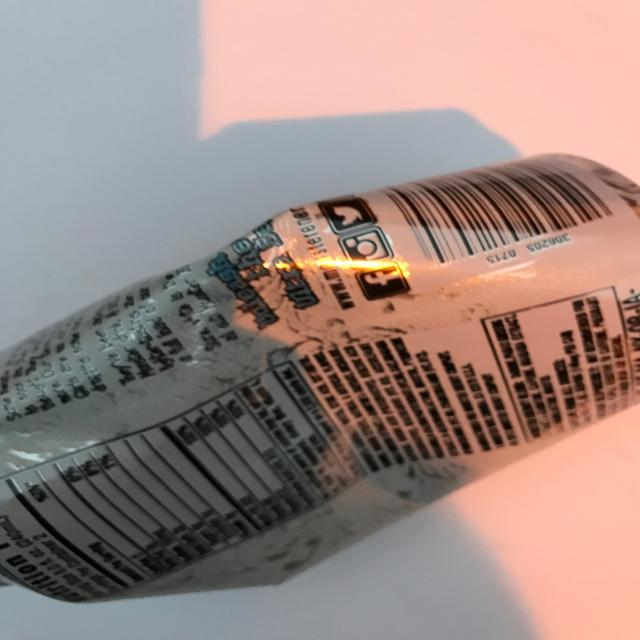metal: (7, 150, 640, 604)
